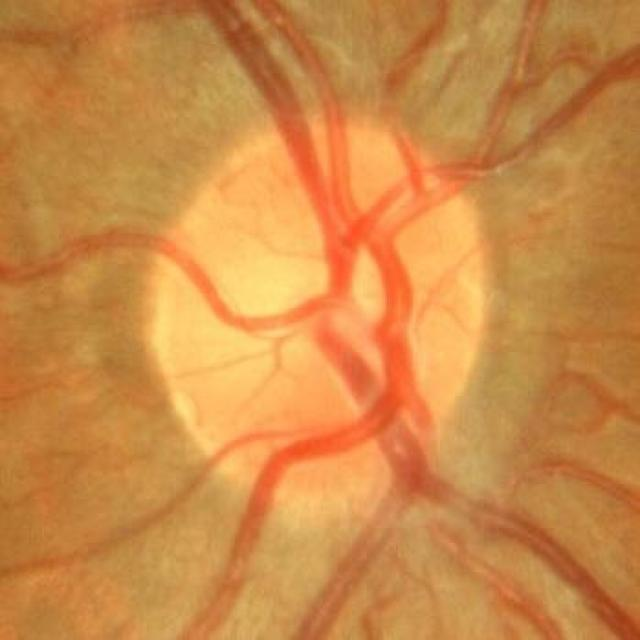OC: (238, 223, 399, 361)
OD: (146, 124, 486, 522)
